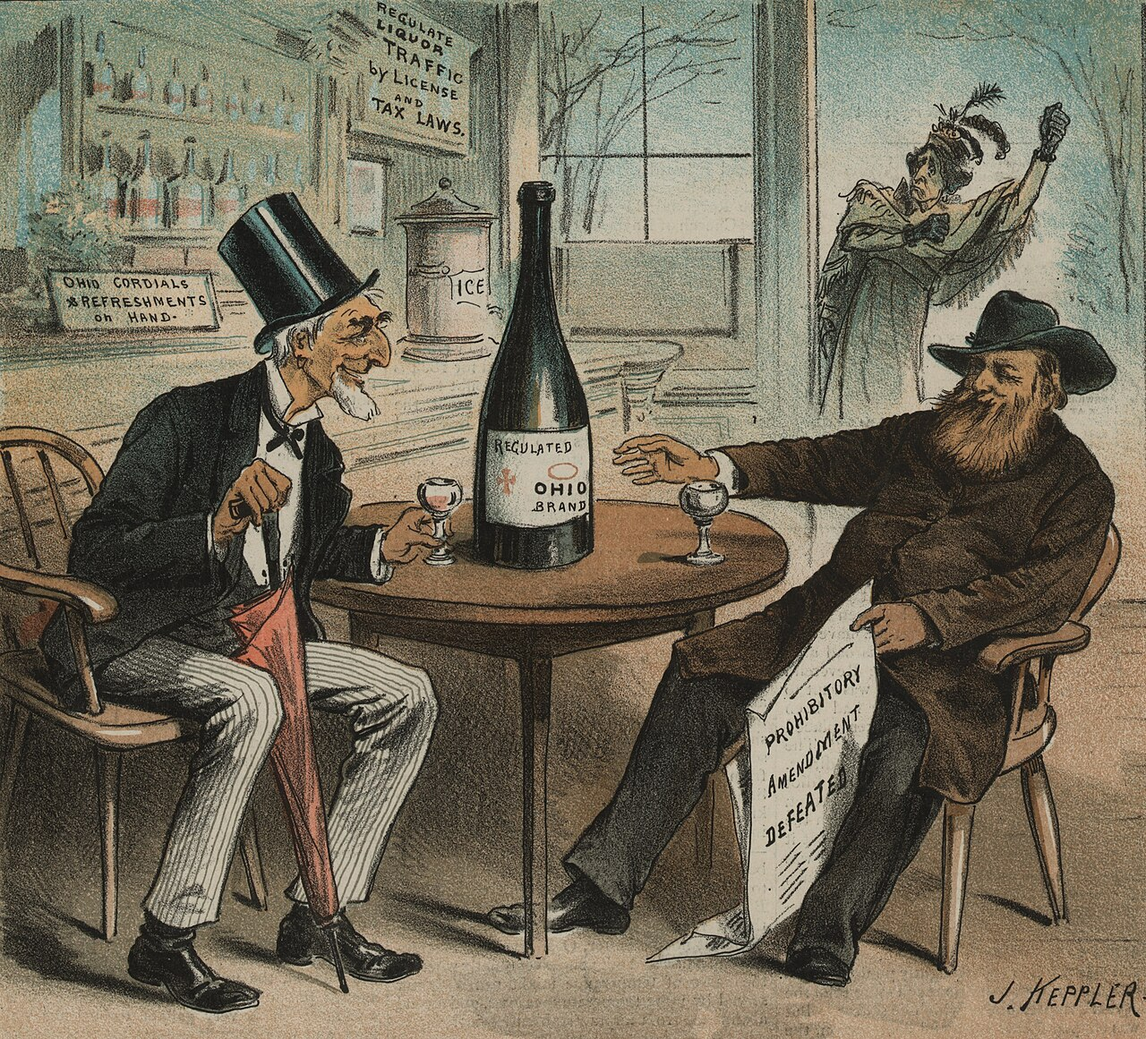unknown_bottle: (472, 182, 594, 571), (167, 137, 210, 232), (129, 130, 164, 231), (90, 130, 122, 219)
